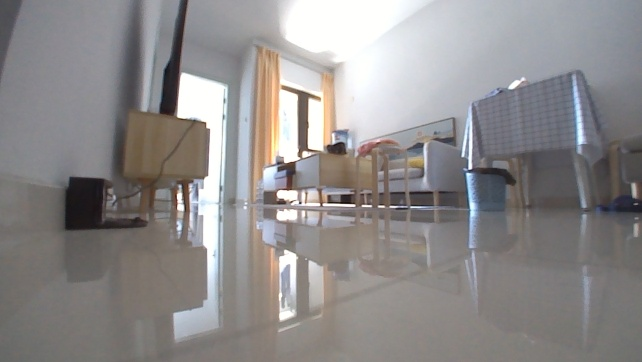charger: (56, 171, 150, 232)
sofa: (358, 114, 470, 208)
tea_table: (261, 145, 377, 207)
wire: (118, 119, 196, 199)
